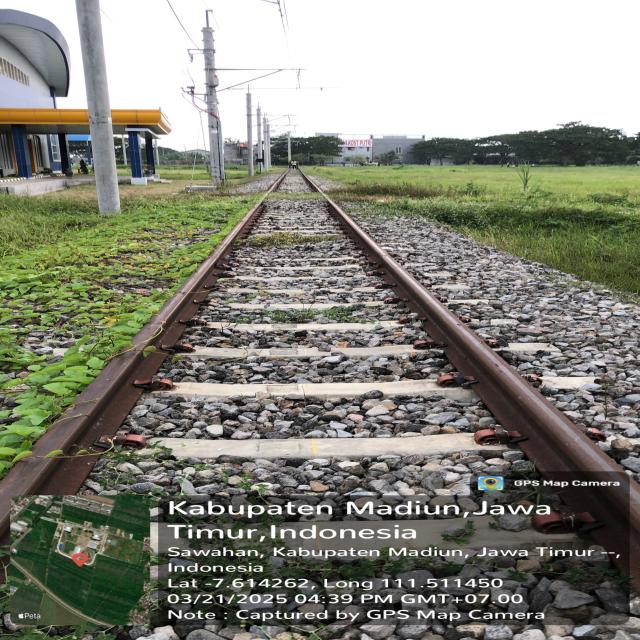rail-detection: (329, 201, 640, 591), (35, 201, 262, 456), (0, 457, 82, 507)
